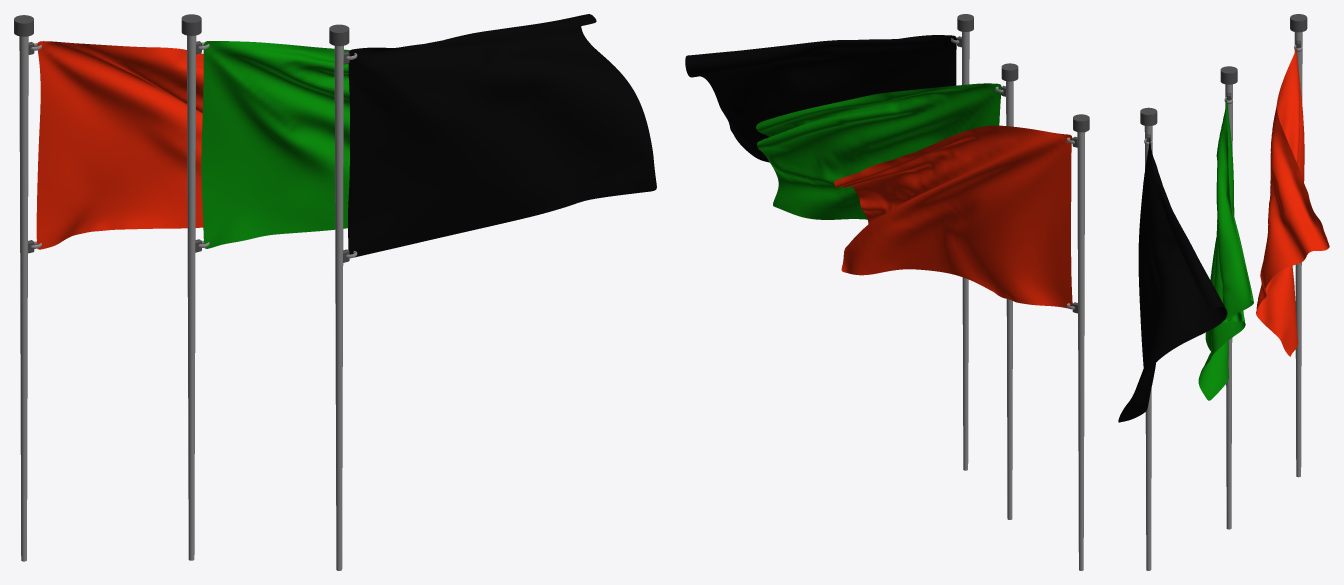
File: free__animated_3d_flags.glb
3 views of the same model, side by side, from view 1: azimuth 30°, elevation 25°; view 2: azimuth 150°, elevation 25°; view 3: azimuth 270°, elevation 25° (orthographic). The views are drawn at different scales.
Visible parts, largest first — view 1: Plane.002_4, Plane_0, Plane.001_3, Circle_5; view 2: Plane_0, Plane.001_3, Plane.002_4, Circle_5; view 3: Plane.002_4, Plane_0, Plane.001_3, Circle_5.
Part boxes in pixels (left/top/right/bottom): Plane.002_4: left=348, top=14, right=656, bottom=257; Plane_0: left=36, top=41, right=203, bottom=249; Plane.001_3: left=201, top=41, right=349, bottom=248; Circle_5: left=14, top=14, right=357, bottom=570; Plane_0: left=834, top=125, right=1072, bottom=308; Plane.001_3: left=756, top=83, right=1001, bottom=219; Plane.002_4: left=685, top=35, right=956, bottom=162; Circle_5: left=951, top=14, right=1089, bottom=570; Plane.002_4: left=1118, top=138, right=1227, bottom=422; Plane_0: left=1256, top=46, right=1329, bottom=356; Plane.001_3: left=1198, top=97, right=1253, bottom=400; Circle_5: left=1140, top=14, right=1307, bottom=570.
Bounding box in the file's own units: 5.41 × 5.18 × 2.16.
